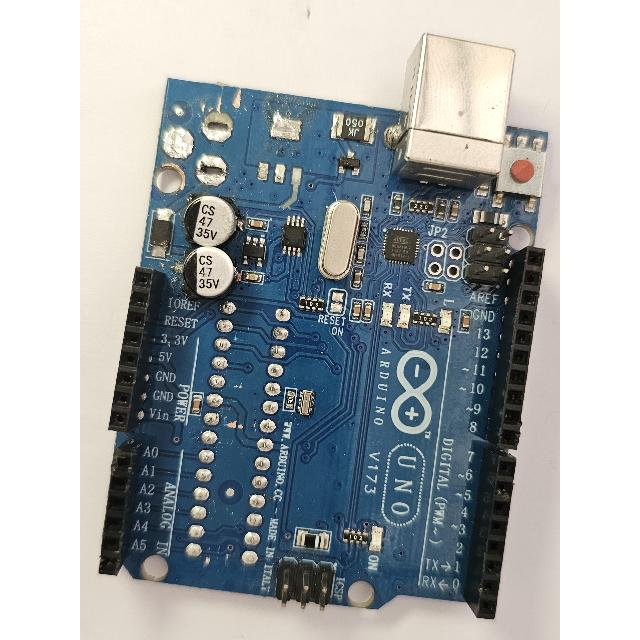missing_atmega: (173, 295, 298, 580)
missing_eps: (177, 91, 244, 190)
missing_voltage_reg: (249, 103, 316, 196)
